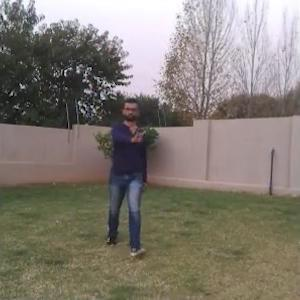takeoff-hand: (127, 125, 149, 150)
